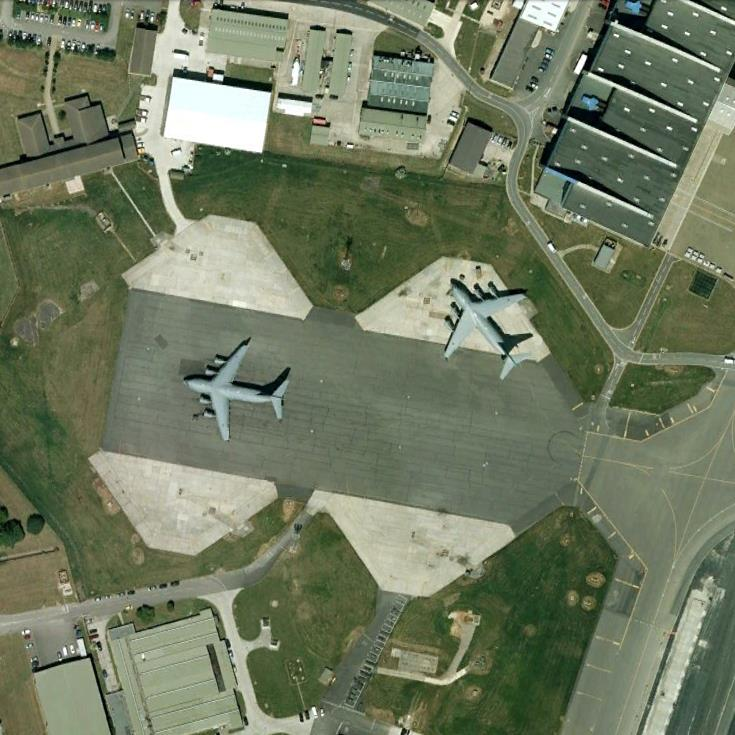A3: (180, 336, 295, 445), (442, 277, 538, 383)
